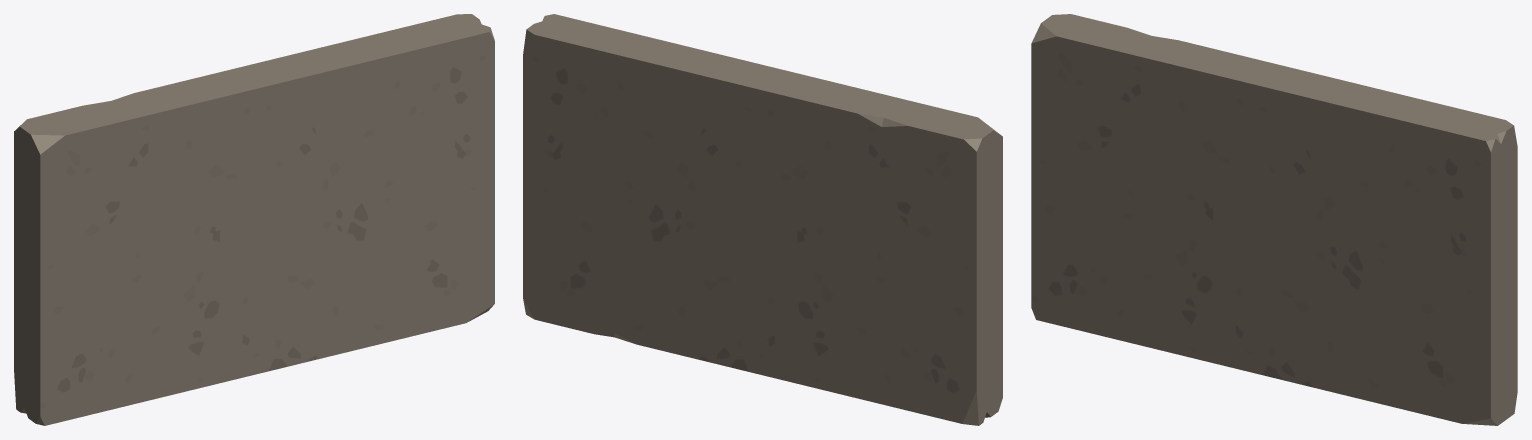
Rendered from SM_Bld_Concrete_Wall_02.fbx.
3 views of the same model, side by side, from view 1: azimuth 30°, elevation 25°; view 2: azimuth 150°, elevation 25°; view 3: azimuth 330°, elevation 25° (orthographic).
Visible parts, largest first — view 1: SM_Bld_Concrete_Wall_02; view 2: SM_Bld_Concrete_Wall_02; view 3: SM_Bld_Concrete_Wall_02.
Boxes of the visible parts, x1=… form: SM_Bld_Concrete_Wall_02: x1=14, y1=14, x2=494, y2=425; SM_Bld_Concrete_Wall_02: x1=523, y1=14, x2=1002, y2=425; SM_Bld_Concrete_Wall_02: x1=1031, y1=14, x2=1517, y2=425.
Size of the model in its own units: 500 by 300 by 50.
